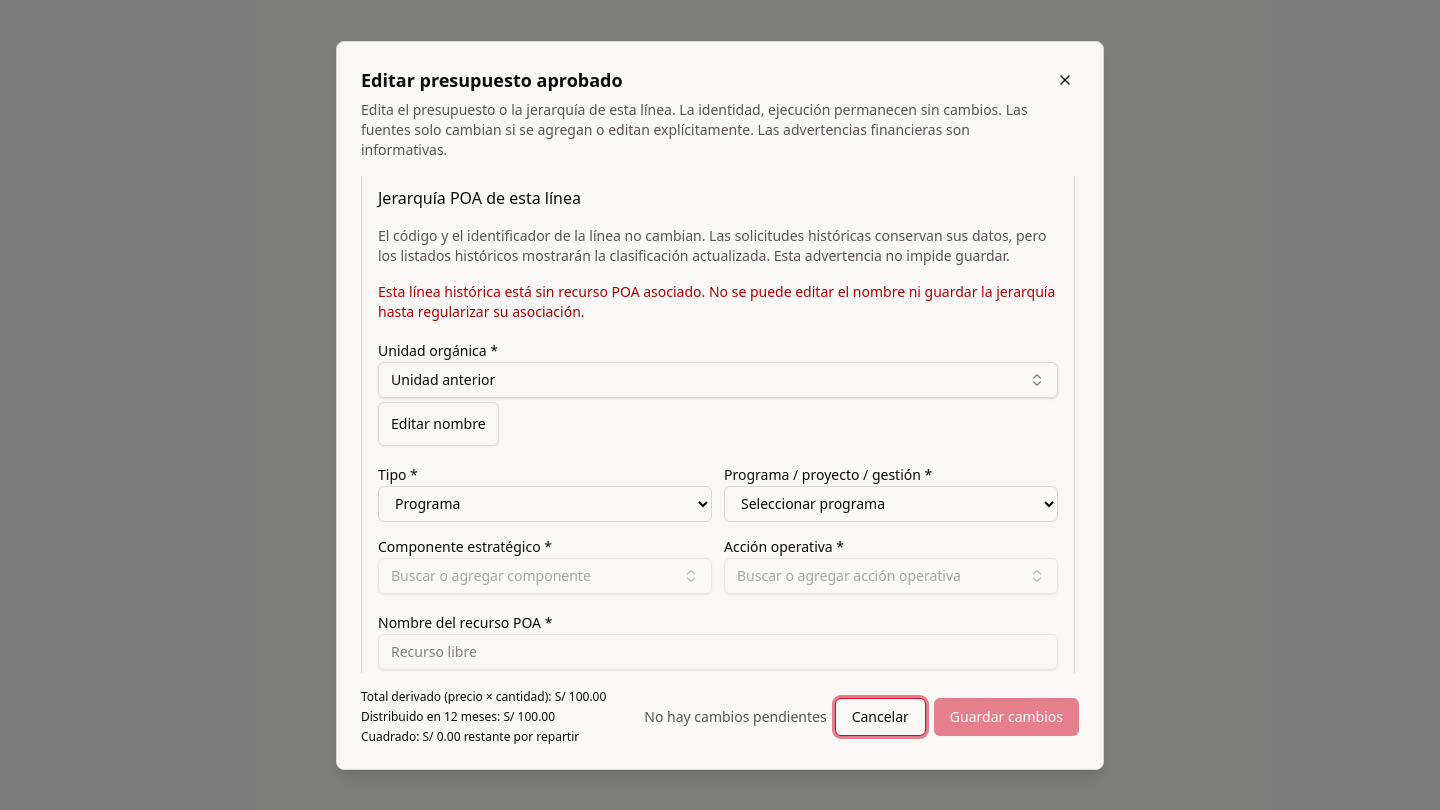
Test: approved amendment dialog › Escape del diálogo de nombre no cierra la edición aprobada
(page scrolled)
Click the button with aria-label "Editar nombre de Unidad orgánica" at (438, 424), box [378,402,499,446]
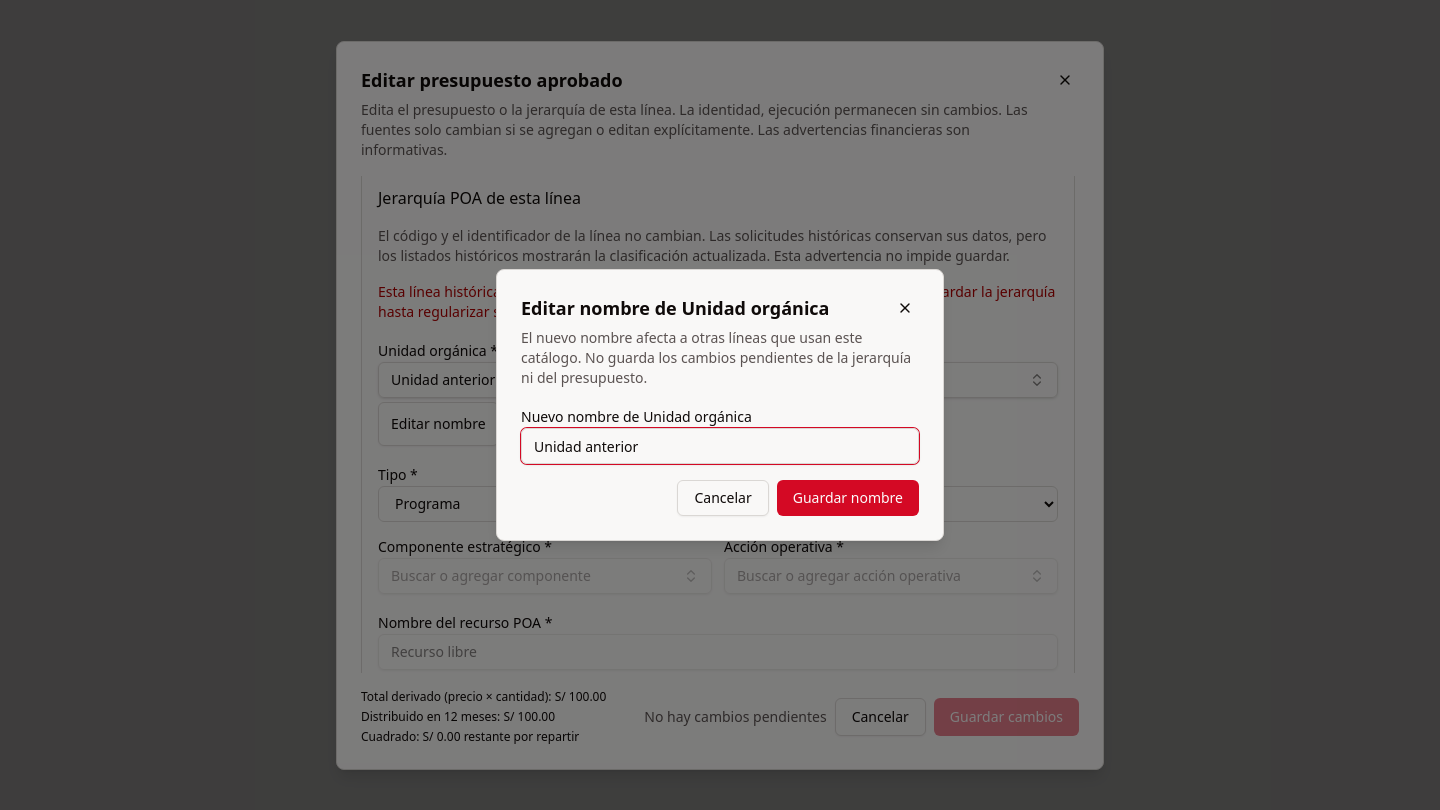
Result: the dialog "Editar nombre de Unidad orgánica" is shown at [496,269,944,541]
Press Escape
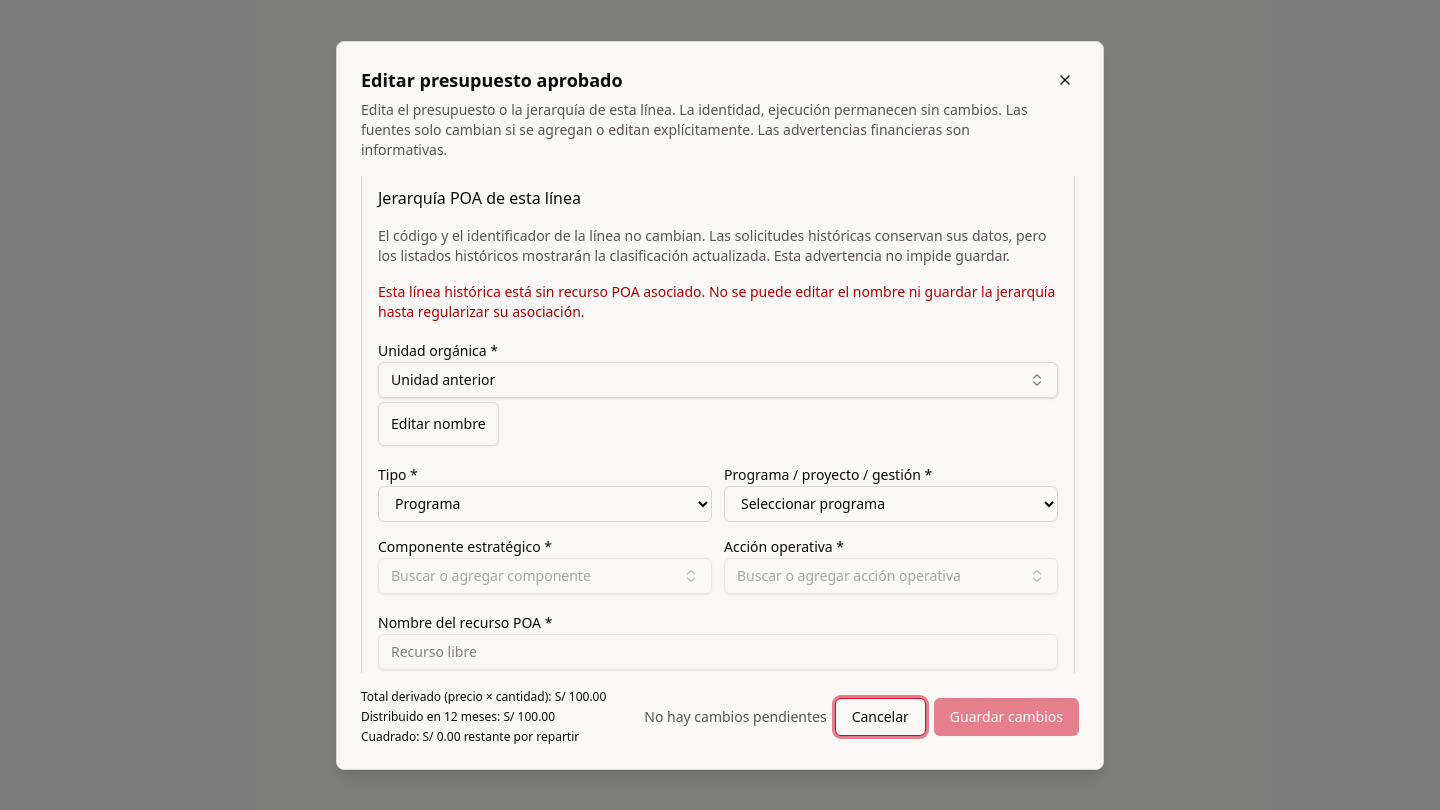
Expected: the dialog "Editar presupuesto aprobado" is shown, [336,40,1104,770]
Result: the heading "Editar nombre de Unidad orgánica" is gone
